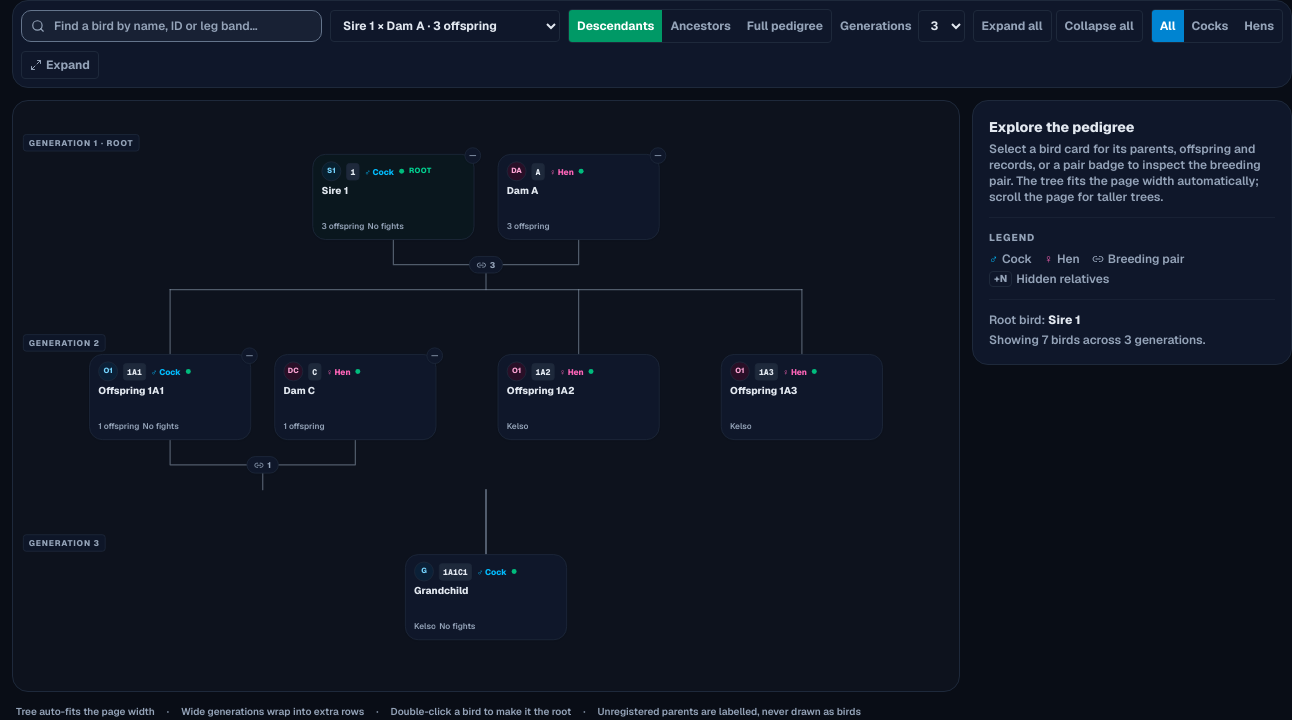
Scenario: LineageFlow pedigree canvas › reveals deeper generations from the depth control and the hidden-relative badge
Select "2" in the dropdown named "Generation depth" at {"x": 941, "y": 26}, box [918,10,964,42]
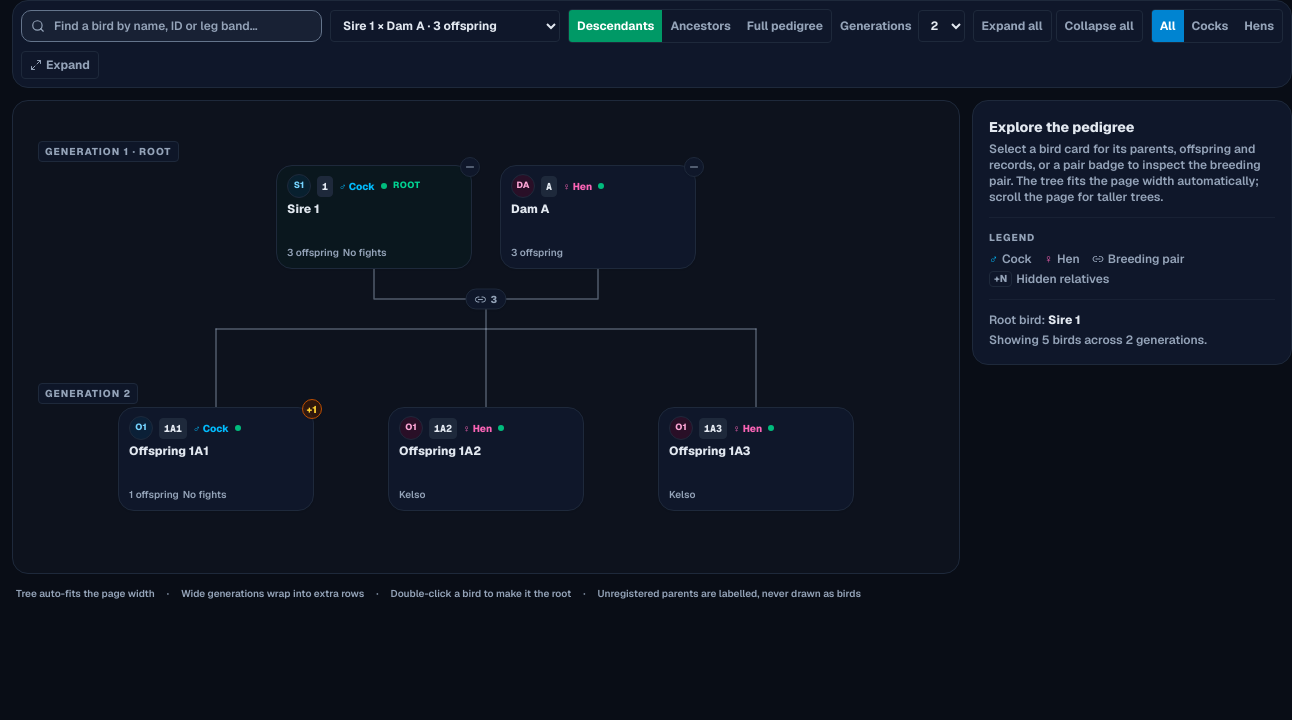
Click the button named "Show 1 more relatives of Offspring 1A1" at {"x": 312, "y": 409}, box [302,399,322,419]
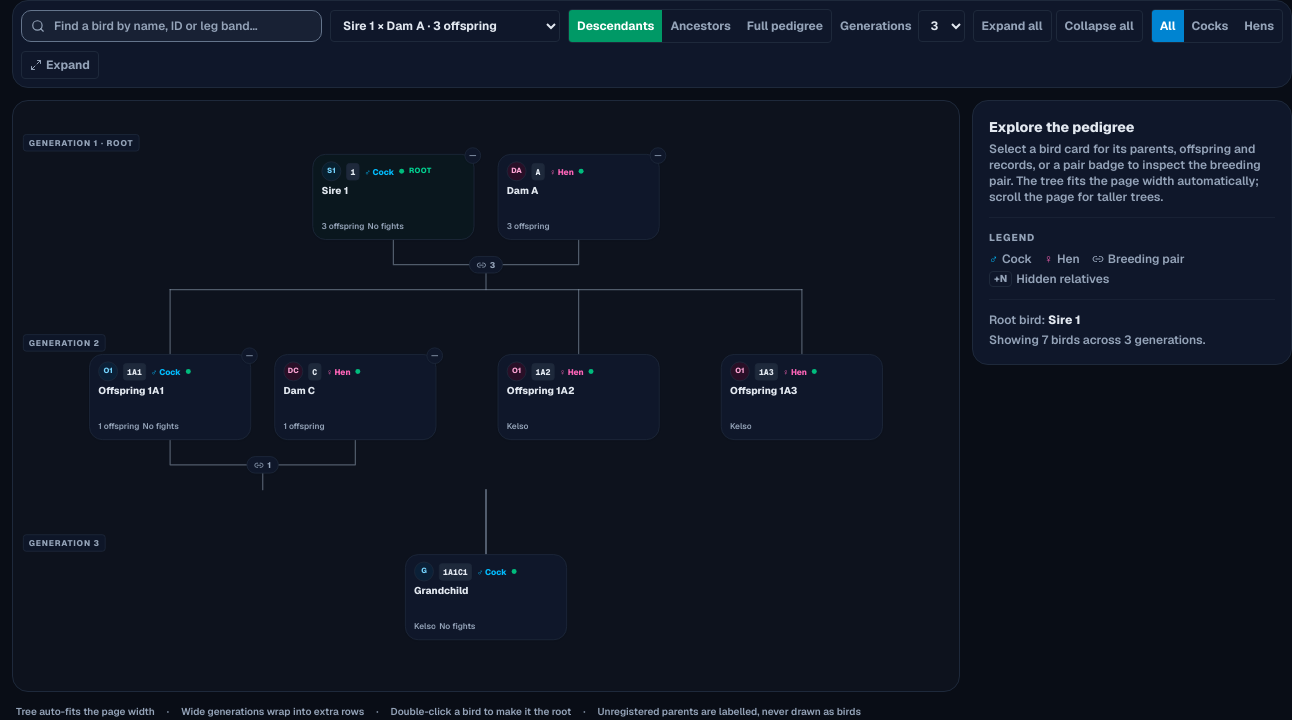
Now the button with test id "lineage-bird-card" is shown, box [405,554,567,640]
